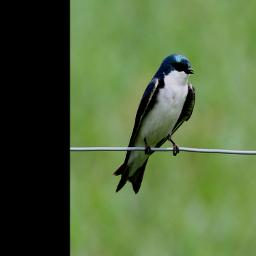Swallow: (112, 53, 196, 195)
